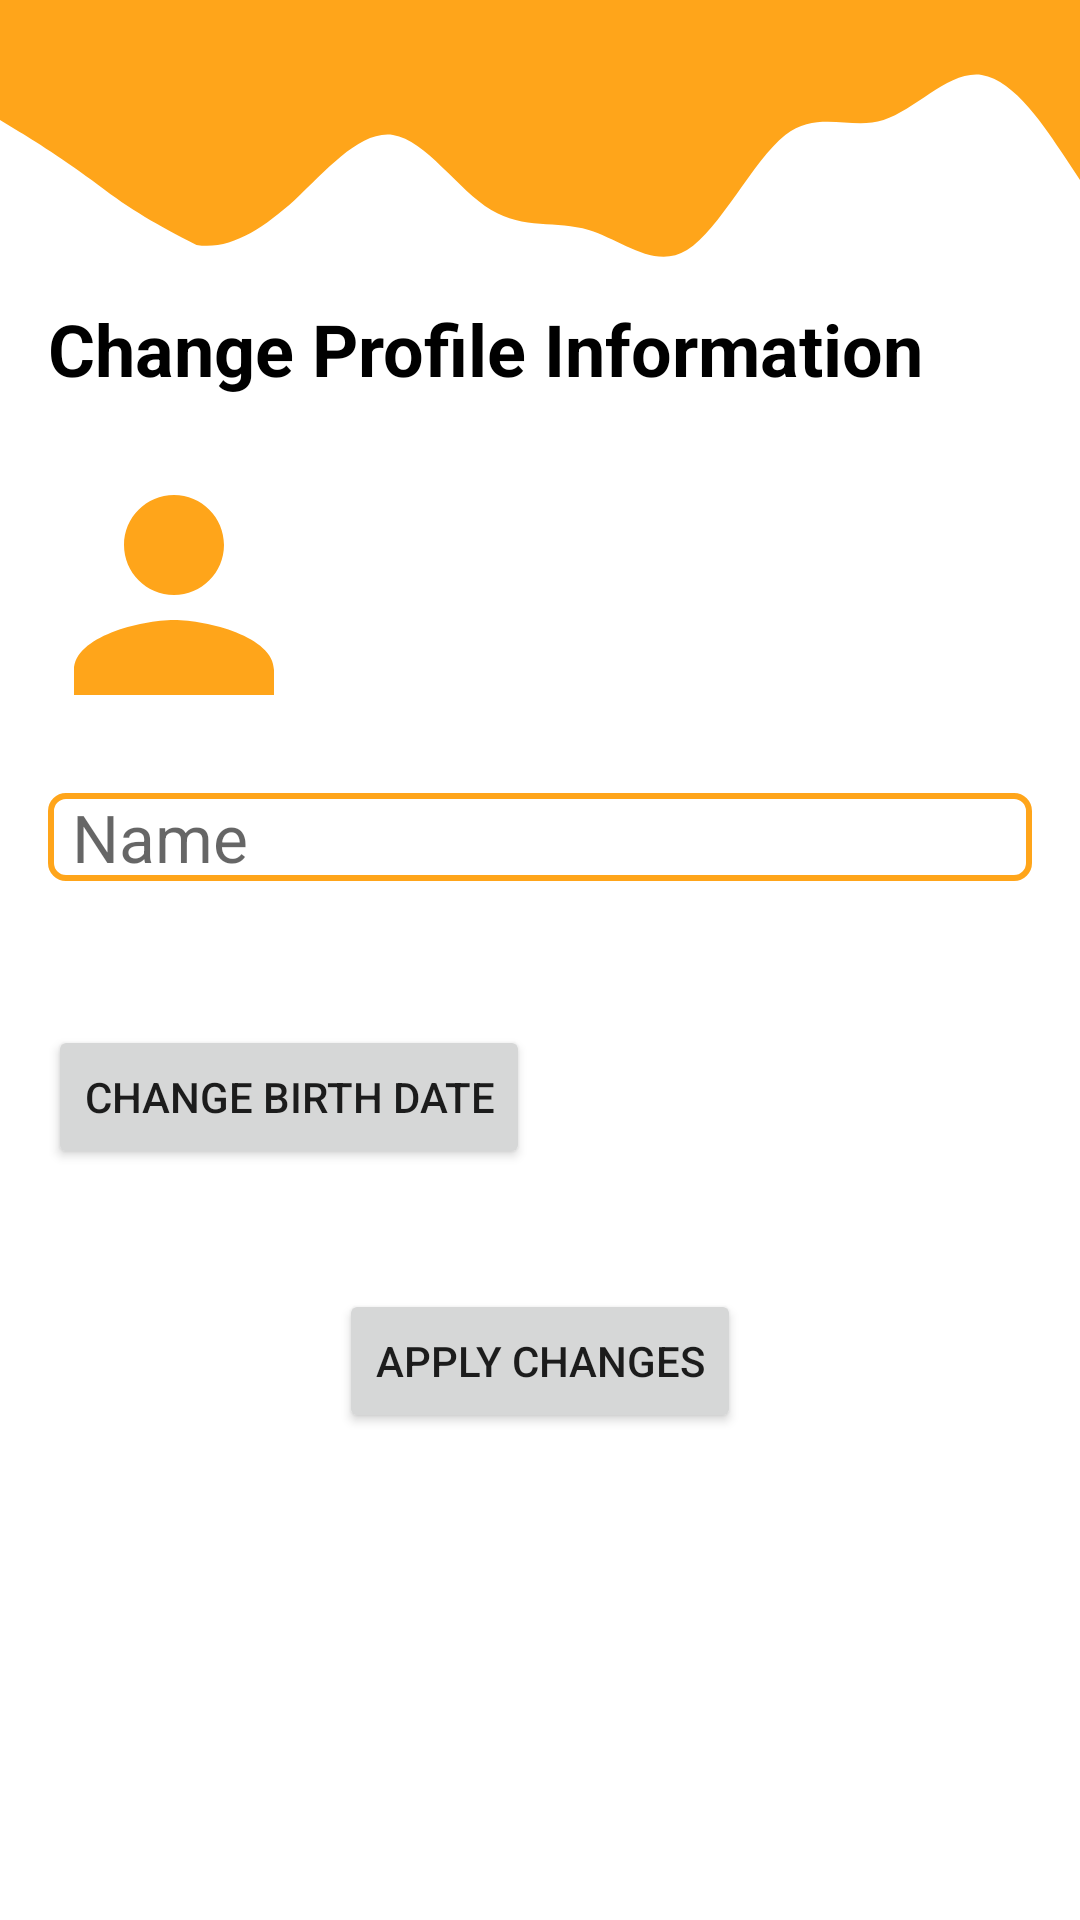

Screen size 1080×1920. Icon name, then its center in pixels as [x,y]:
person profile: [174,595]
